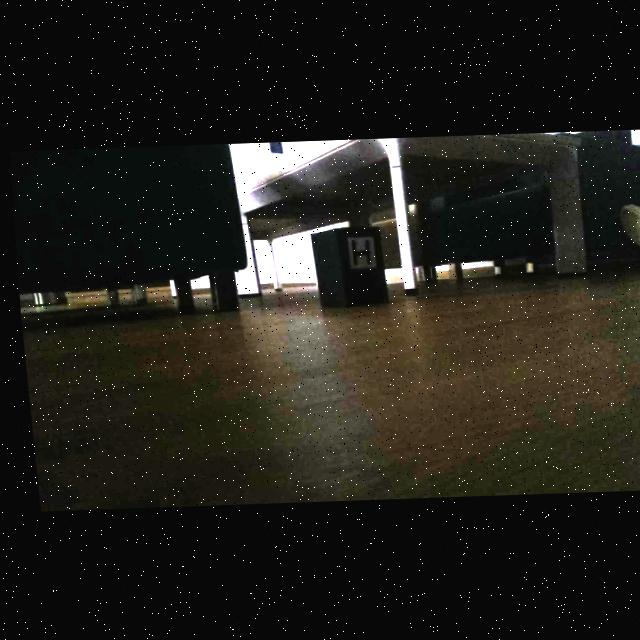H: (349, 240, 368, 264)
